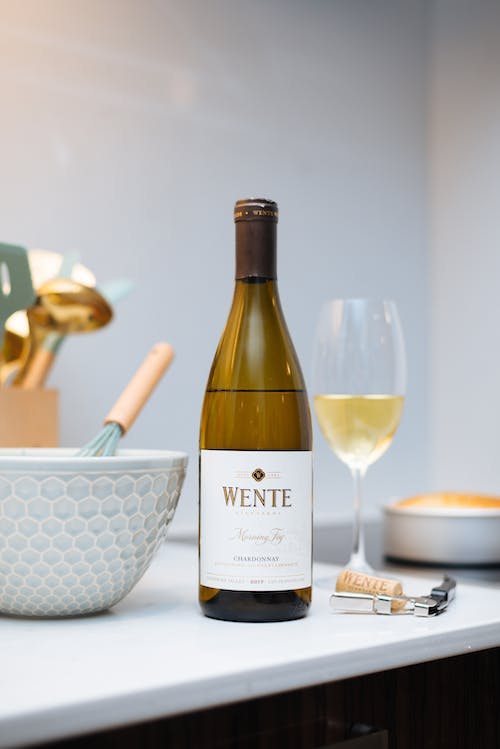alcohol: (196, 196, 315, 626), (313, 295, 408, 593)
